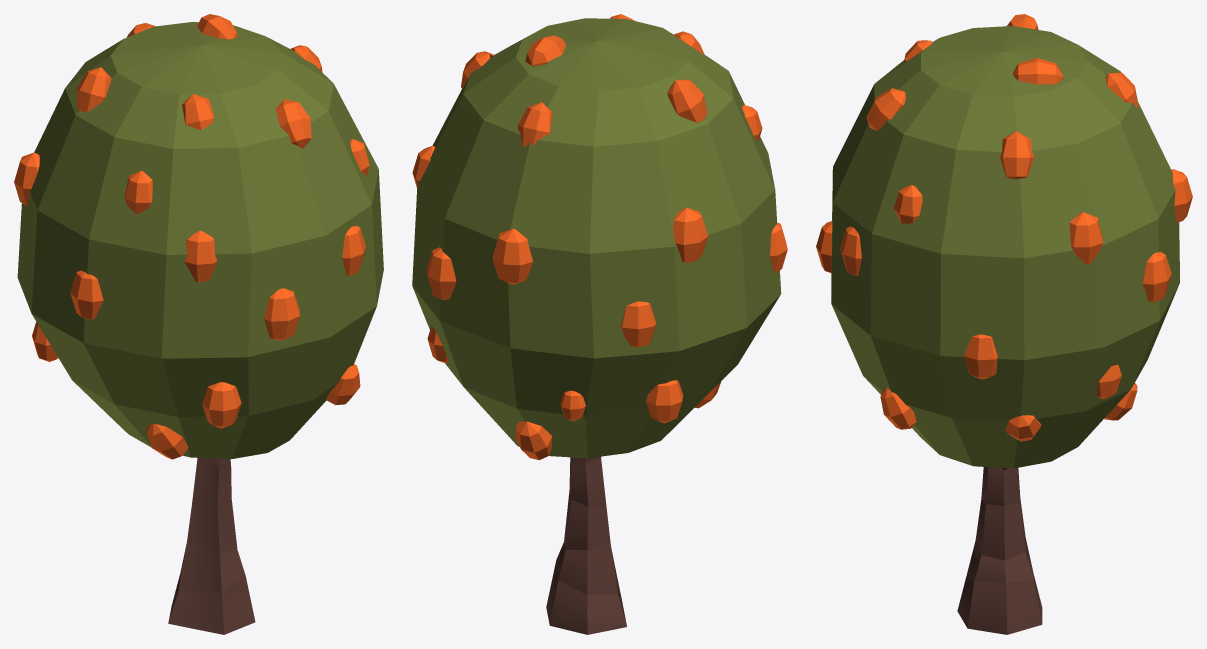
Rendered from tree_18.FBX.
3 renders of one model, left to right at view 1: azimuth 30°, elevation 25°; view 2: azimuth 150°, elevation 25°; view 3: azimuth 270°, elevation 25°, orthographic. The views are drawn at different scales.
Parts seen in each view (by area): view 1: tree_18; view 2: tree_18; view 3: tree_18.
Boxes of the visible parts, bbox=[...] form: tree_18: bbox=[14, 14, 383, 634]; tree_18: bbox=[412, 14, 787, 634]; tree_18: bbox=[816, 14, 1192, 634].
Bounding box in the file's own units: 3.19 × 5.51 × 3.32.
1 material, 1 textured.
